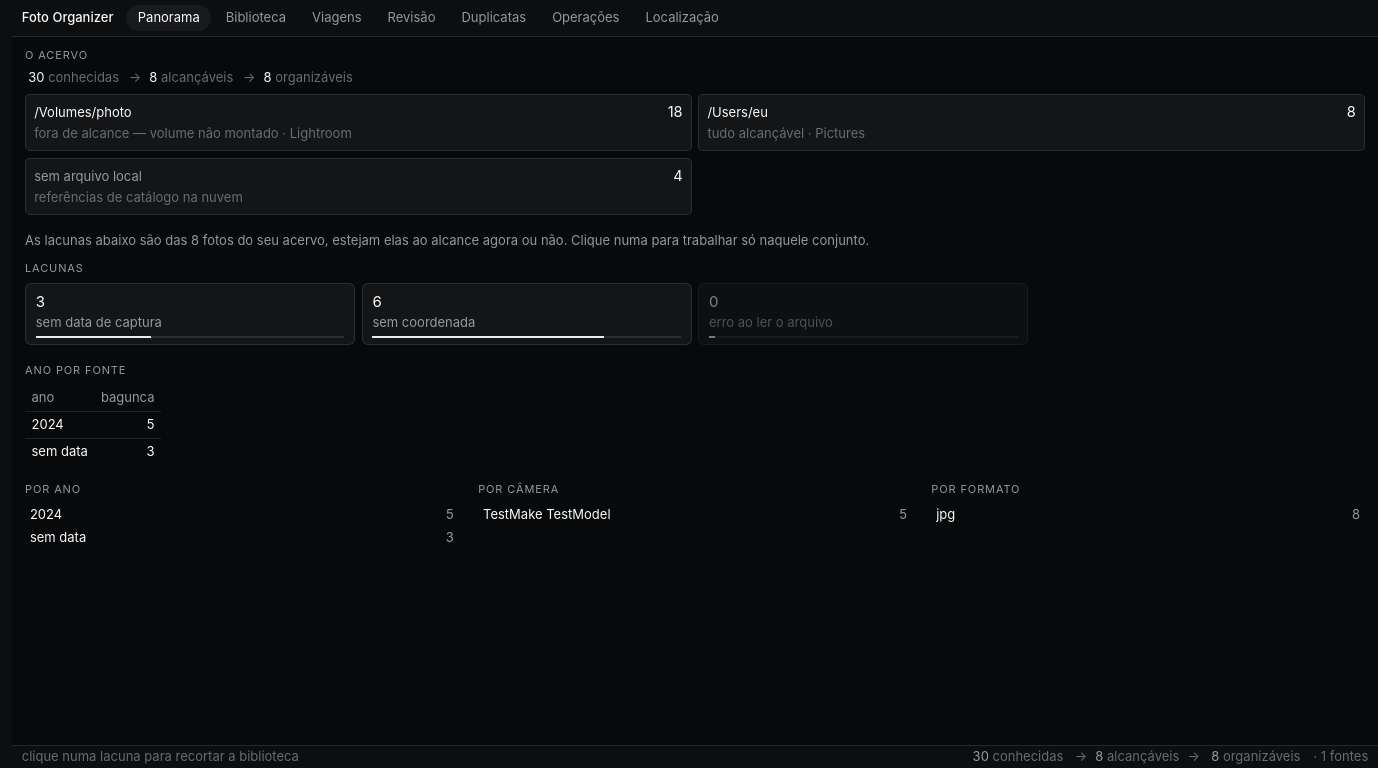
Test: App › CONS-06: a barra da Biblioteca empilha em dois grupos, não um flex único
This screenshot has width=1378, height=768.
Click the button "Biblioteca" at (256, 18), box [214,5,297,31]
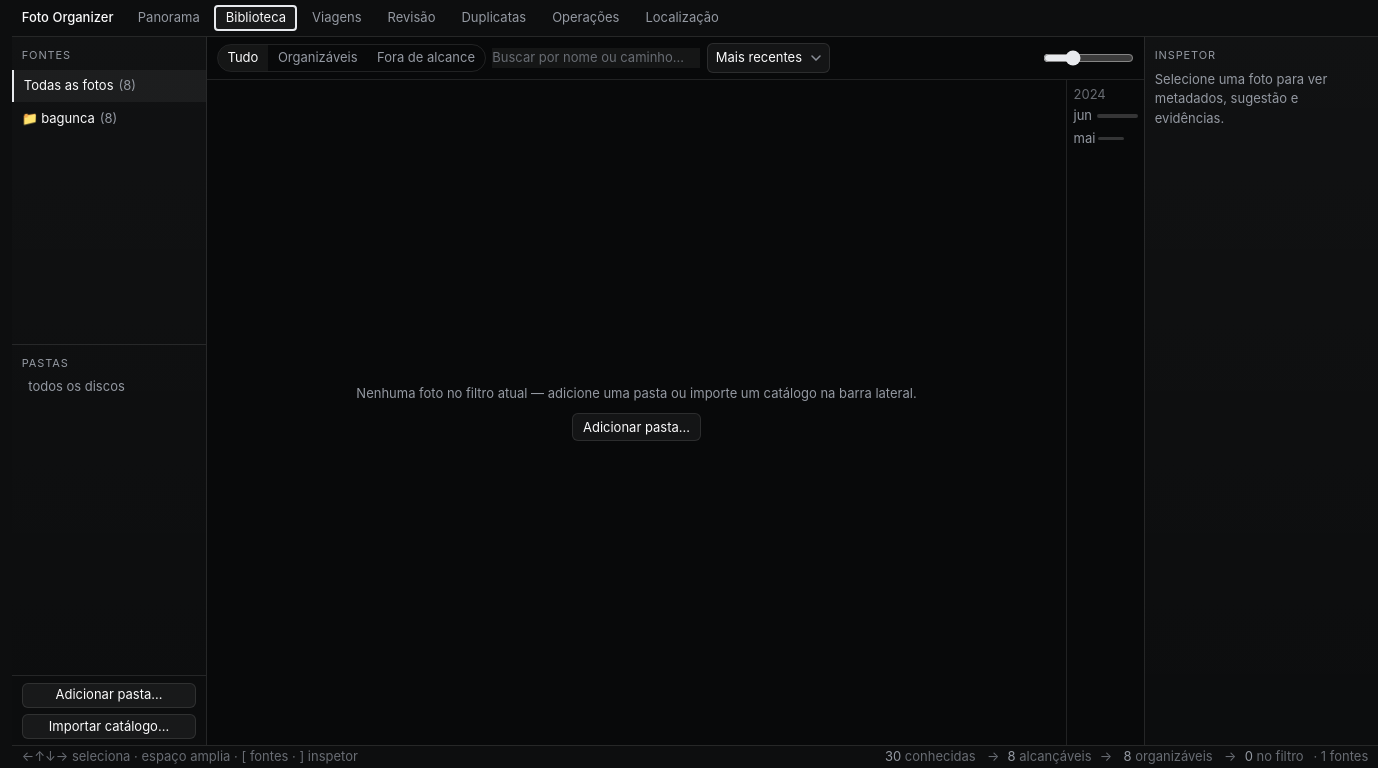
Check: the element "Tudo" is shown, box [207,37,1144,80]
Check: the 1st element with placeholder "Buscar por nome ou caminho…" is shown, box [492,43,1134,73]
